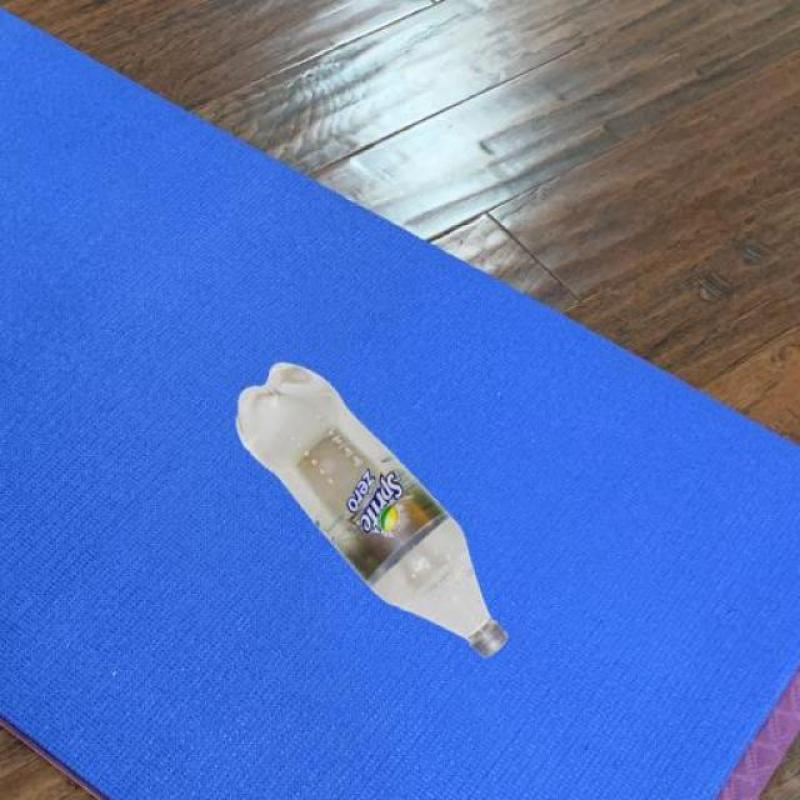botella: (235, 361, 509, 661)
